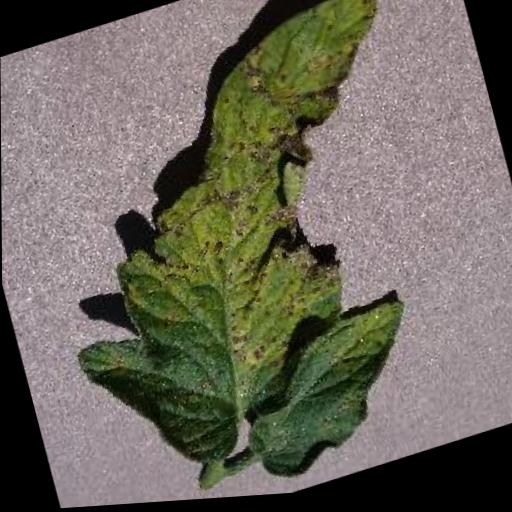Septoria: (4, 0, 486, 512)
